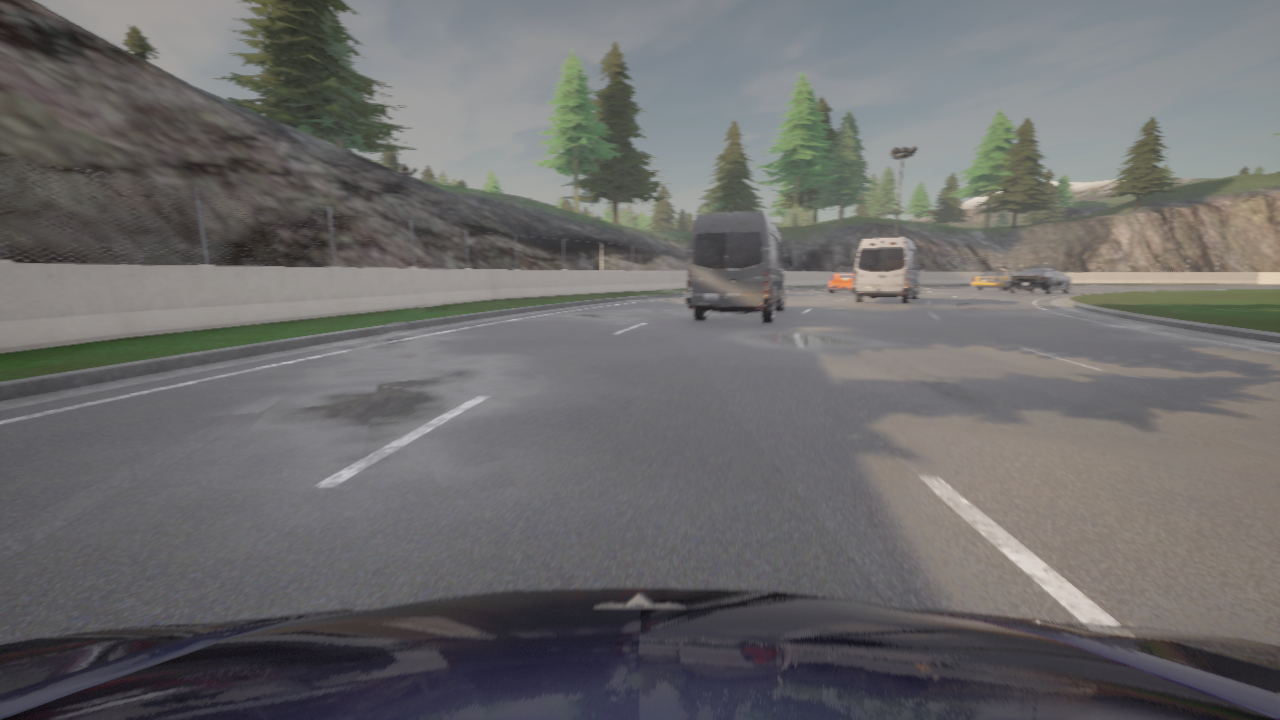cyclist: (0, 588, 1279, 719), (686, 212, 791, 323), (852, 237, 923, 304), (1009, 266, 1071, 294), (971, 268, 1017, 291), (828, 264, 854, 293)
